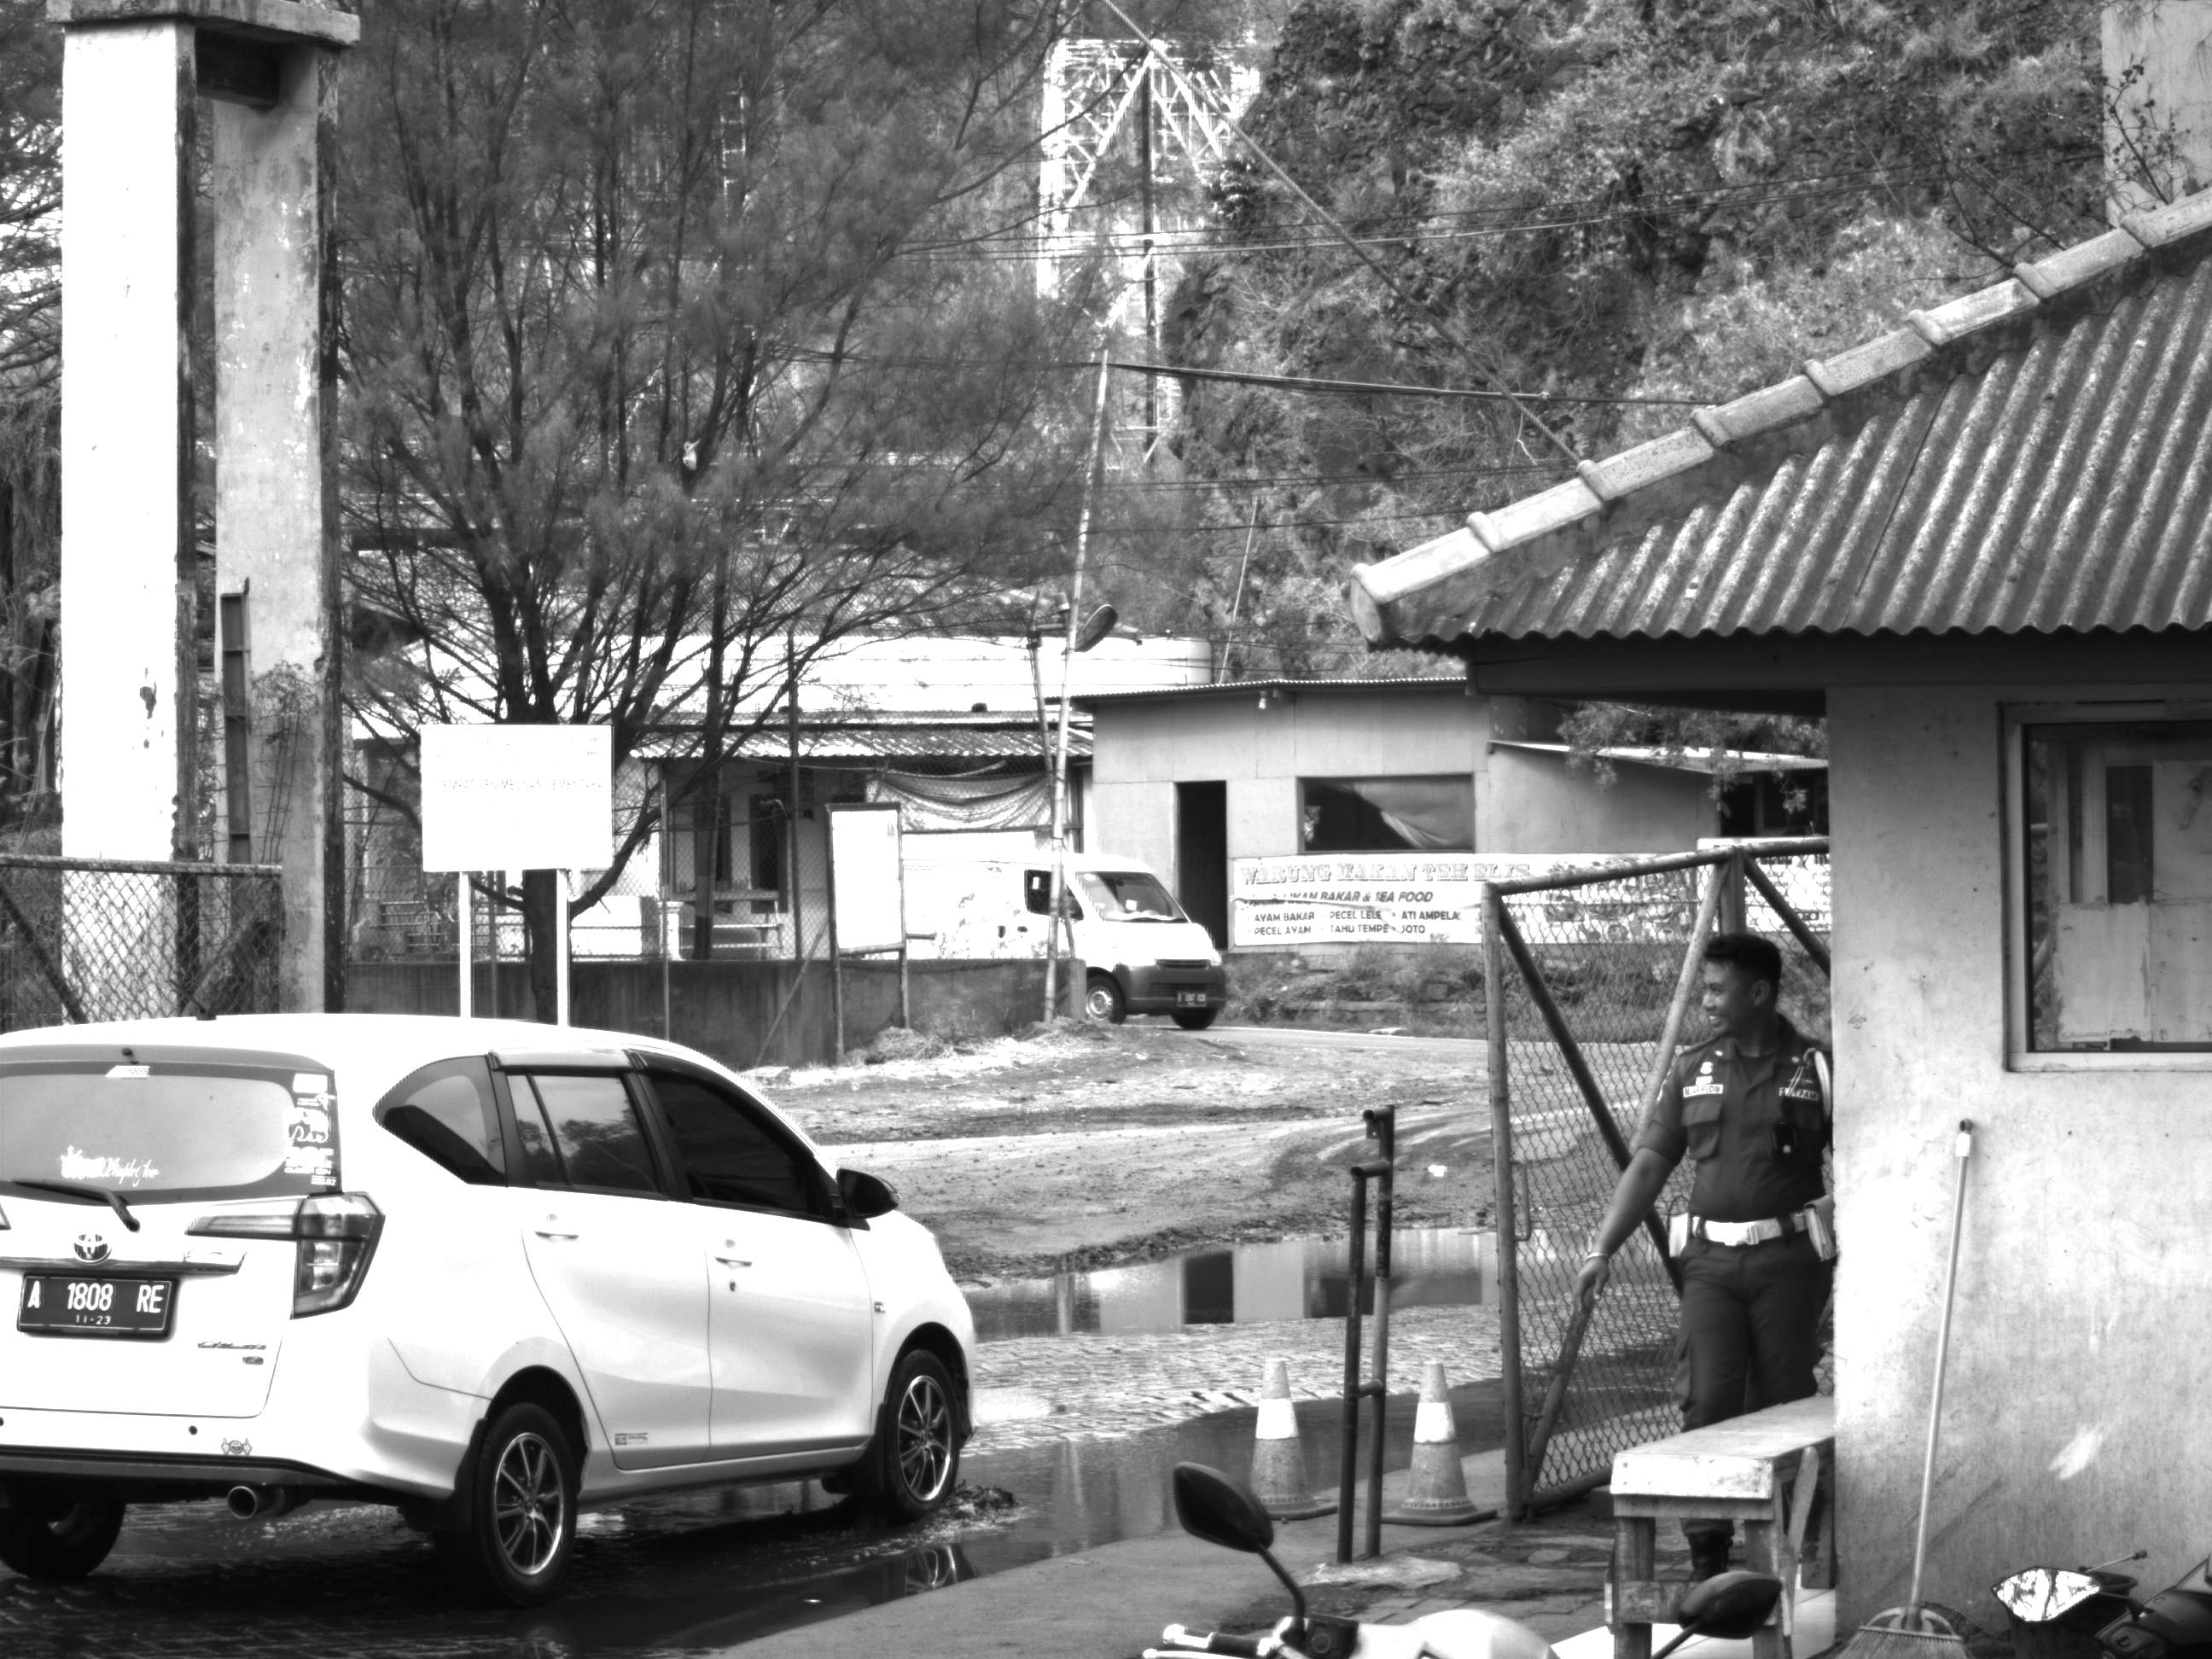day_small_rear: (2, 1015, 585, 1637)
plate: (18, 1268, 176, 1341)
